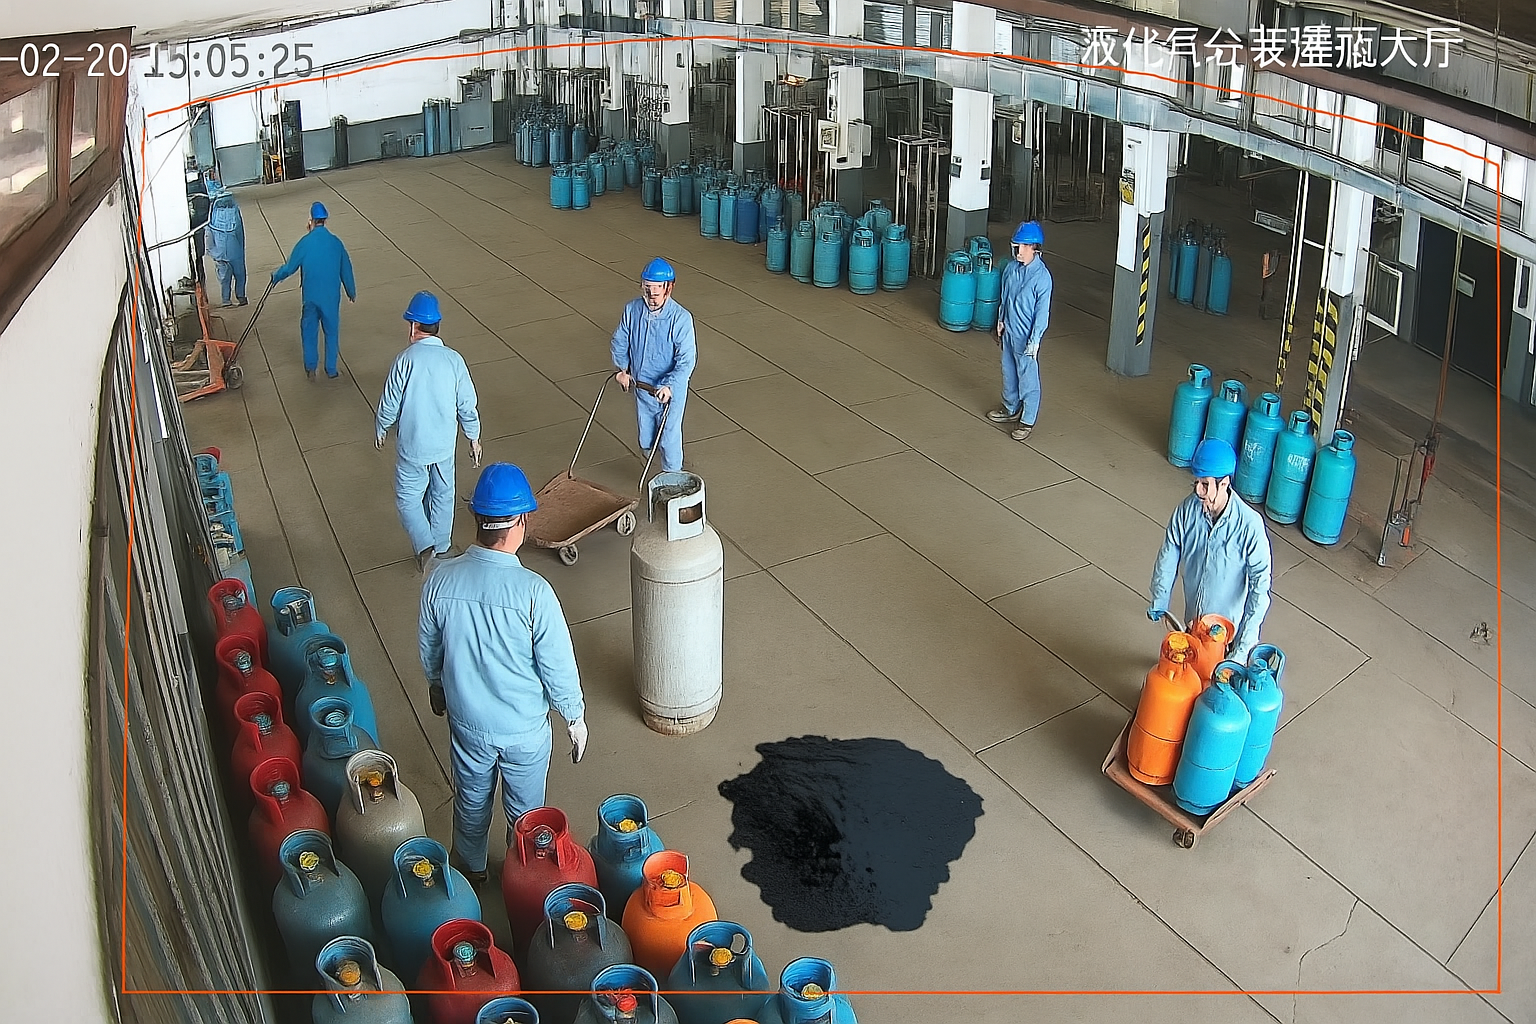safety_cap: (466, 459, 545, 527), (1180, 420, 1245, 488), (393, 280, 447, 334), (635, 249, 680, 292), (1010, 219, 1049, 253), (308, 194, 335, 228)
